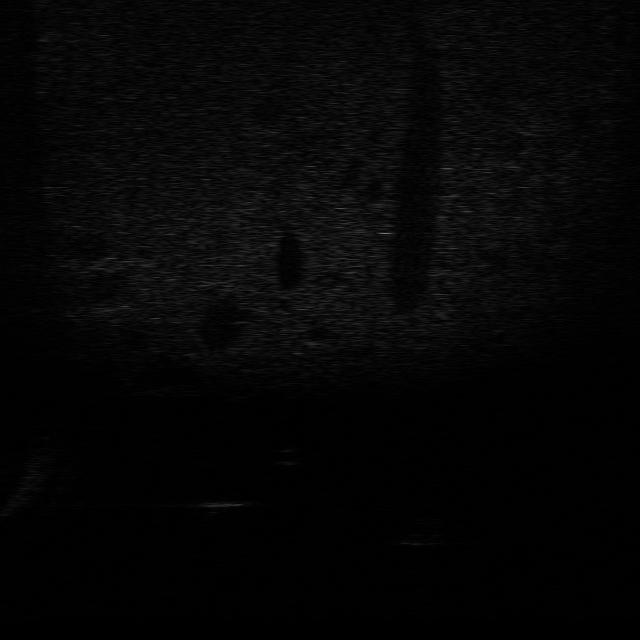ball: (266, 443, 308, 469)
square cage: (188, 490, 260, 517)
tyre: (391, 511, 450, 546)
